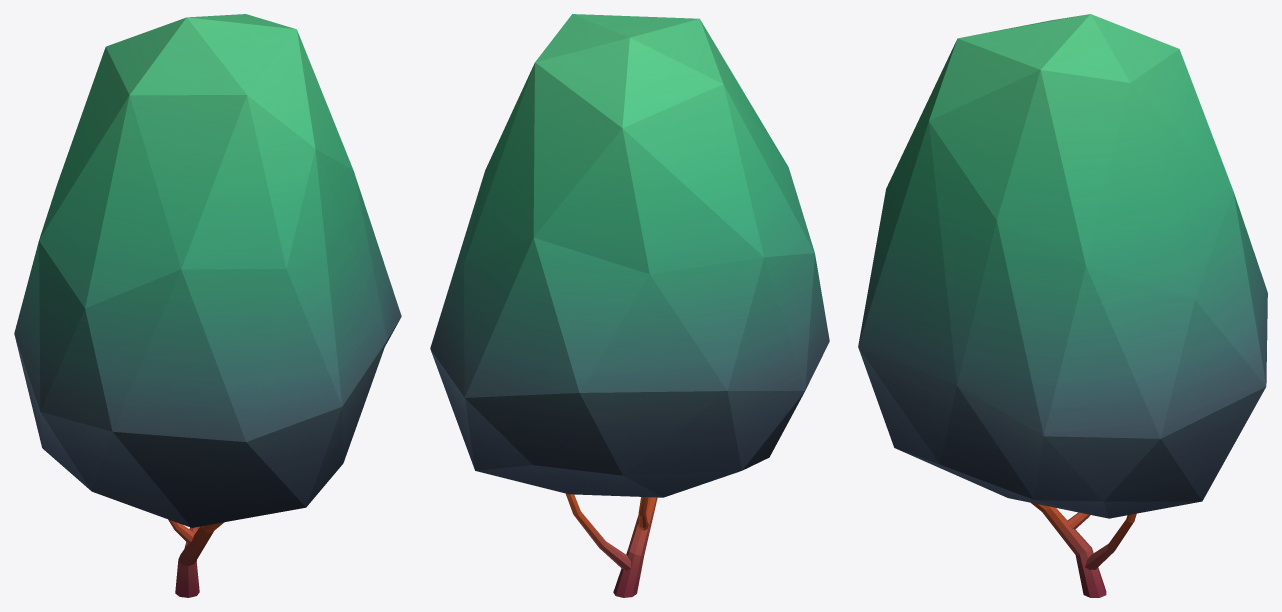
File: Bush_2.fbx
3 views of the same model, side by side, from view 1: azimuth 30°, elevation 25°; view 2: azimuth 150°, elevation 25°; view 3: azimuth 270°, elevation 25° (orthographic). The views are drawn at different scales.
Parts seen in each view (by area): view 1: Bush 2; view 2: Bush 2; view 3: Bush 2.
Boxes of the visible parts, box(x1,y1,x2,y2) form: Bush 2: box(14, 14, 401, 597); Bush 2: box(430, 14, 829, 597); Bush 2: box(858, 14, 1267, 597).
Size of the model in its own units: 117 by 182 by 117.
